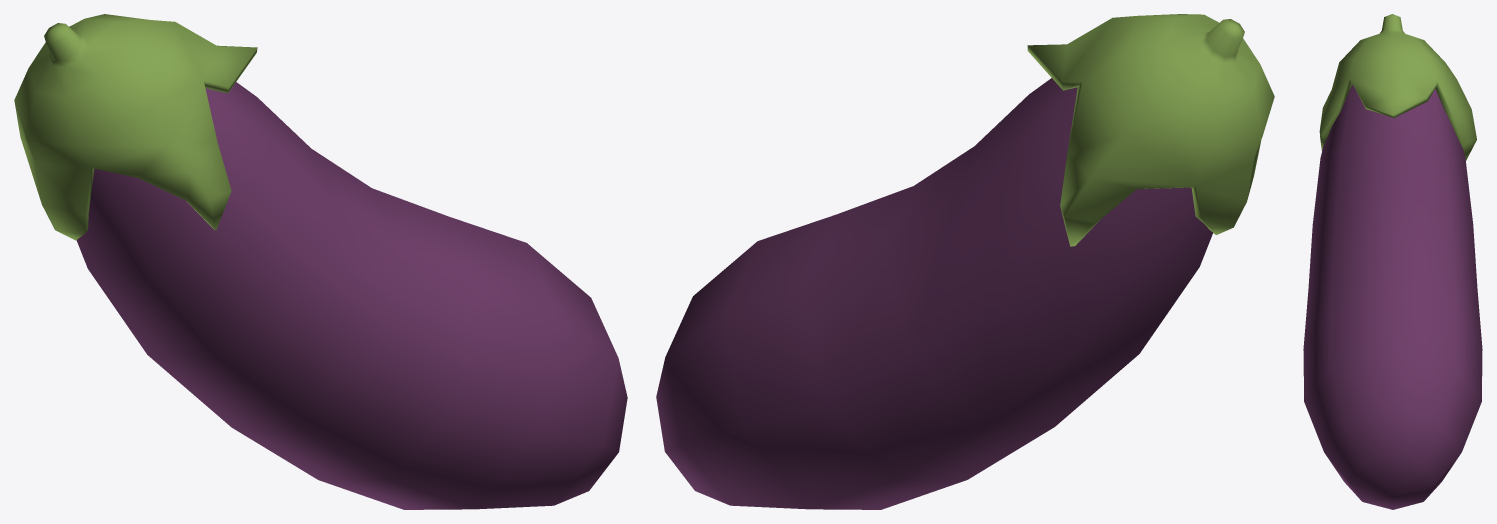
The model's file is eggplant.fbx.
The picture shows the model from 3 angles, left to right: view 1: azimuth 30°, elevation 25°; view 2: azimuth 150°, elevation 25°; view 3: azimuth 270°, elevation 25°; orthographic projection. The views are drawn at different scales.
Visible parts, largest first — view 1: aubergine, green; view 2: aubergine, green; view 3: aubergine, green.
Part boxes in pixels (<box>): aubergine: <box>76,82,627,509</box>; green: <box>14,14,257,240</box>; aubergine: <box>656,78,1212,509</box>; green: <box>1027,14,1274,246</box>; aubergine: <box>1303,85,1482,509</box>; green: <box>1319,14,1476,160</box>.
Bounding box in the file's own units: 64.69 × 62.35 × 28.76.
